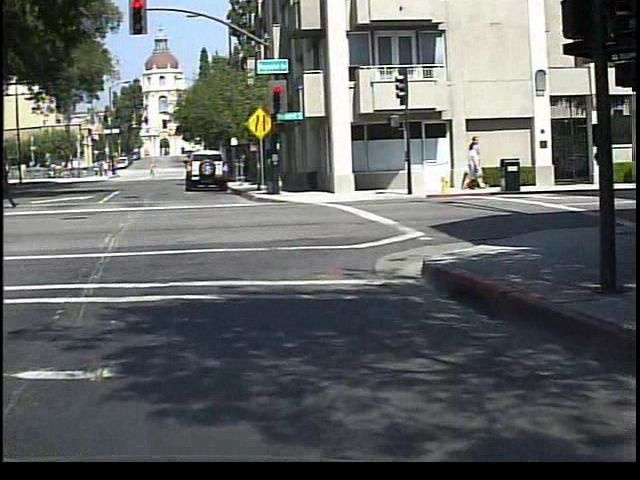person: (7, 167, 37, 224), (4, 159, 24, 213), (151, 161, 160, 179)
